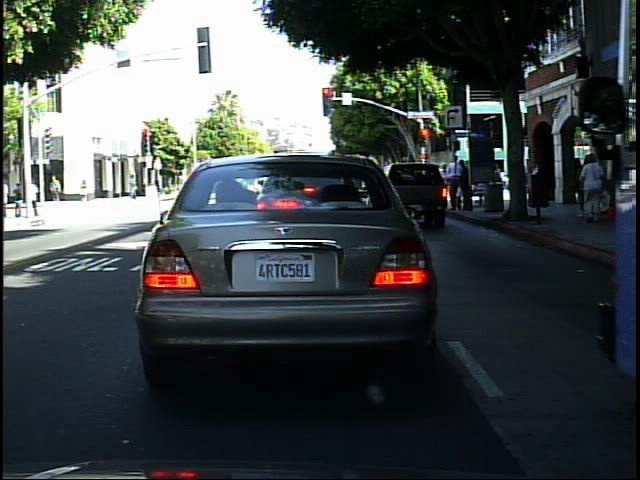person: (579, 150, 613, 228), (583, 152, 604, 229), (76, 172, 94, 207), (11, 178, 26, 220), (48, 170, 67, 203), (125, 168, 142, 202), (30, 172, 43, 216)
